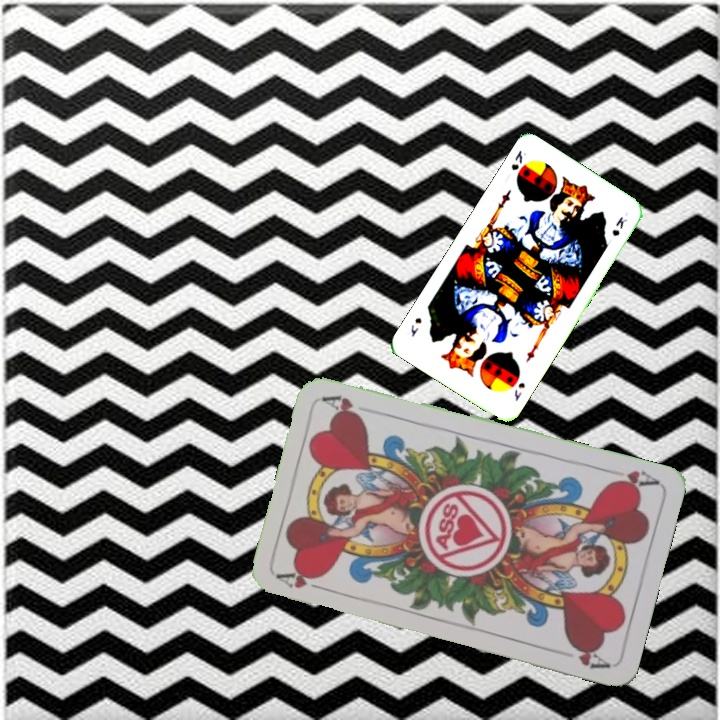HA: (602, 465, 661, 493), (274, 566, 332, 594)
SK: (507, 146, 529, 173), (510, 378, 528, 404)
